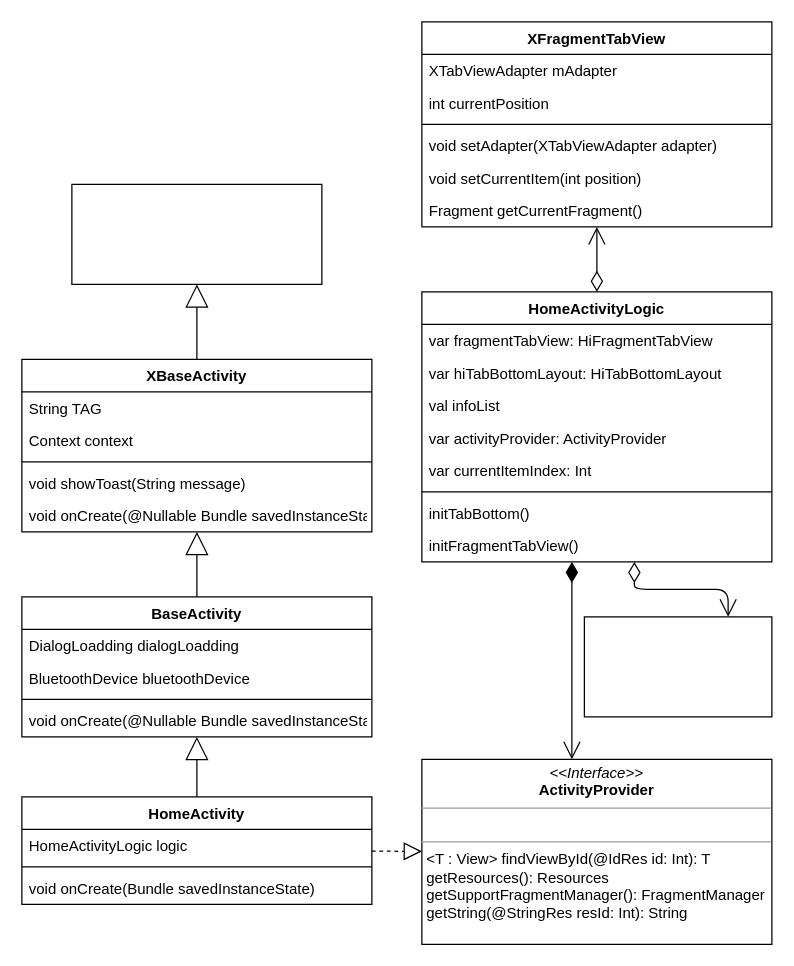
Some shapes in this 794 by 966 pixel diagram are drawn without their labels. The centre of each missing label's shape, as x and y in pixels:
AppCompatActivity: the point at 196,233
HiTabBottomLayout: the point at 677,666
